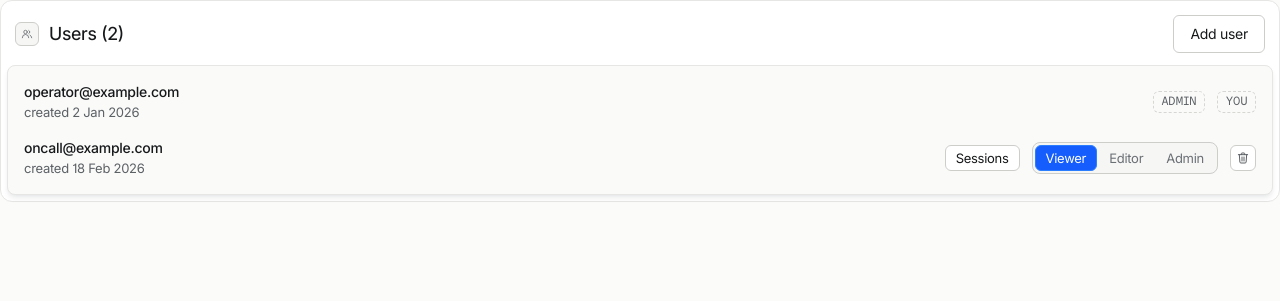
Test: opens another account's sessions under its row, and not on your own
Expected: the text "oncall@example.com" is shown, [24,139,163,156]
Click the button with aria-label "Sessions of oncall@example.com".
click(982, 158)  # box [945,145,1020,171]
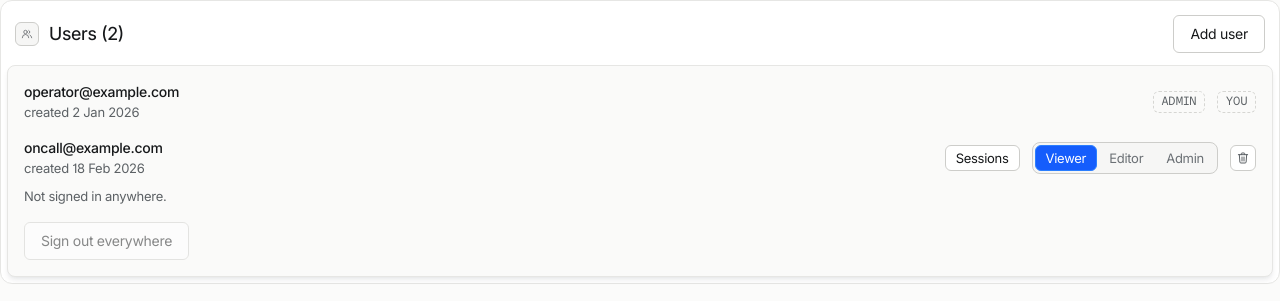
Expected: the text "Not signed in anywhere." is shown, [24,188,166,204]
Click the button with aria-label "Sessions of oncall@example.com".
click(982, 158)  # box [945,145,1020,171]
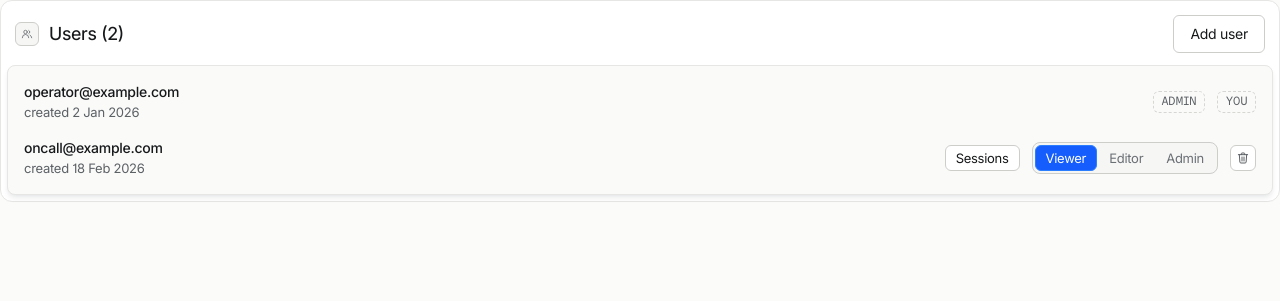
Expected: the text "Not signed in anywhere." is gone
